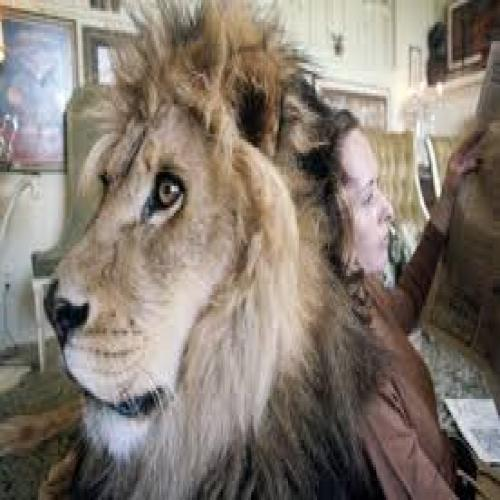lion-endangered: (0, 29, 356, 500)
